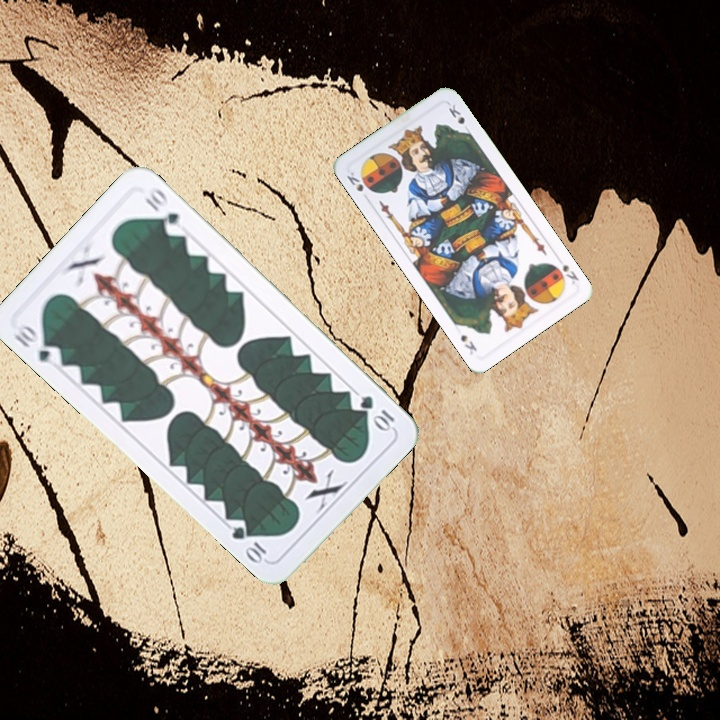G10: (10, 319, 65, 369), (355, 391, 398, 434)
SK: (548, 259, 581, 287), (342, 167, 366, 194)
